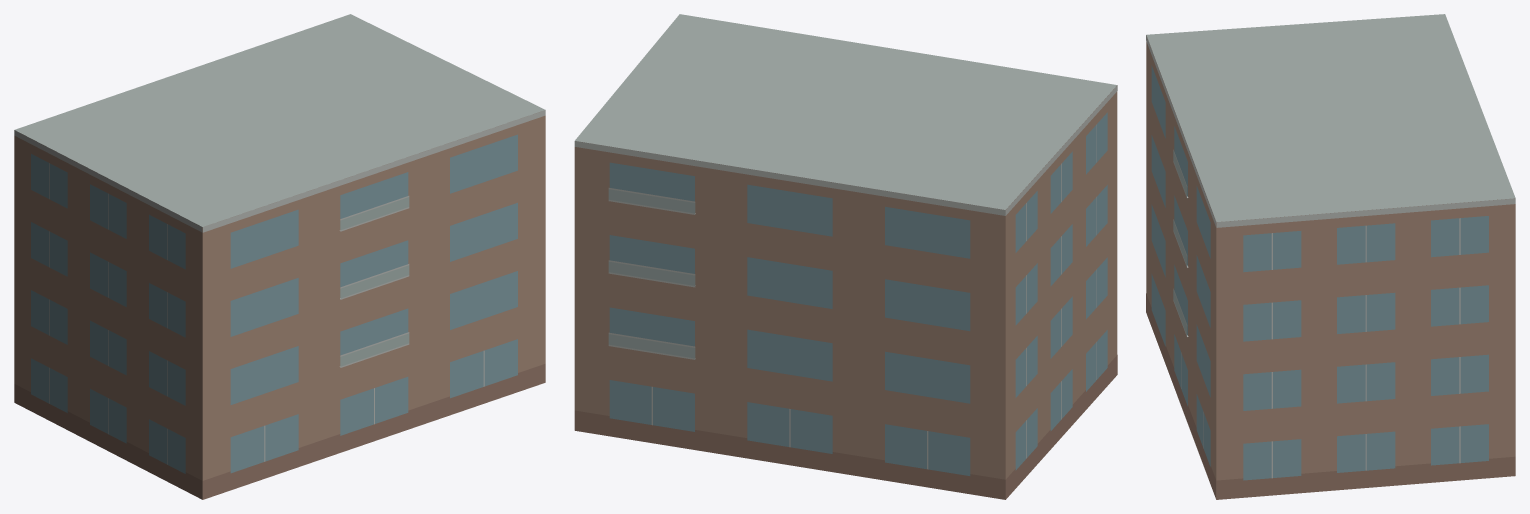
Rendered from survey-upis-32738916.glb.
3 views of the same model, side by side, from view 1: azimuth 30°, elevation 25°; view 2: azimuth 150°, elevation 25°; view 3: azimuth 270°, elevation 25° (orthographic). The views are drawn at different scales.
Visible parts, largest first — view 1: survey-upis-32738916.tmp; view 2: survey-upis-32738916.tmp; view 3: survey-upis-32738916.tmp.
Part boxes in pixels (bbox=[...]): survey-upis-32738916.tmp: bbox=[14, 14, 545, 499]; survey-upis-32738916.tmp: bbox=[574, 14, 1117, 499]; survey-upis-32738916.tmp: bbox=[1146, 14, 1515, 499].
Bounding box in the file's own units: 18.98 × 11.8 × 14.24.
